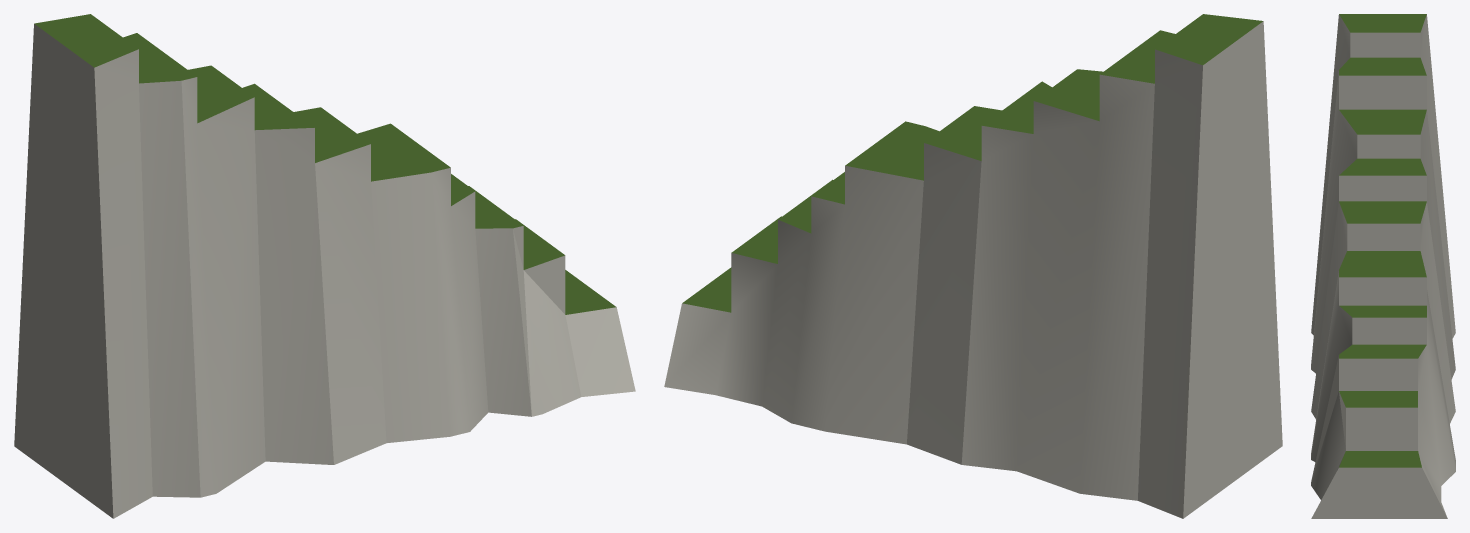
File: Terrain_Tile_Grass_Rock_Stairs_03.fbx
3 renders of one model, left to right at view 1: azimuth 30°, elevation 25°; view 2: azimuth 150°, elevation 25°; view 3: azimuth 270°, elevation 25°, orthographic. The views are drawn at different scales.
Parts seen in each view (by area): view 1: Terrain_Tile_Grass_Rock_Stairs_03; view 2: Terrain_Tile_Grass_Rock_Stairs_03; view 3: Terrain_Tile_Grass_Rock_Stairs_03.
Part boxes in pixels (x1,y1,x2,y2): Terrain_Tile_Grass_Rock_Stairs_03: [14, 14, 635, 518]; Terrain_Tile_Grass_Rock_Stairs_03: [664, 14, 1282, 518]; Terrain_Tile_Grass_Rock_Stairs_03: [1311, 14, 1455, 518].
Bounding box in the file's own units: 157 × 126 × 51.8.
